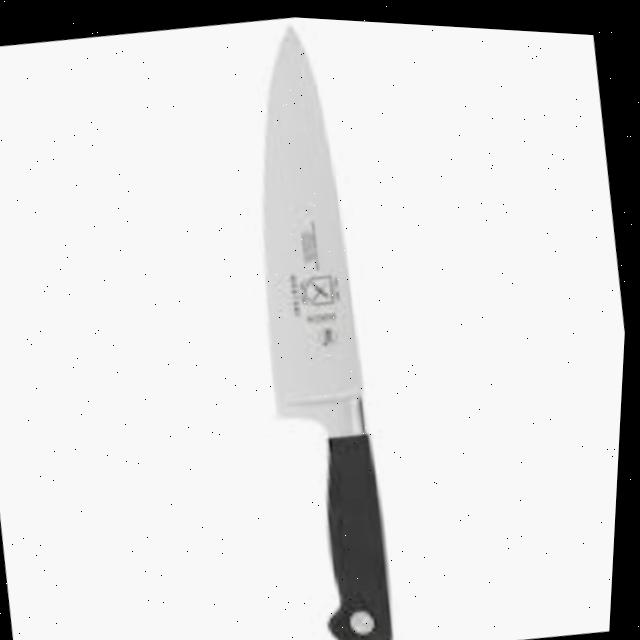Knife: (207, 11, 426, 640)
